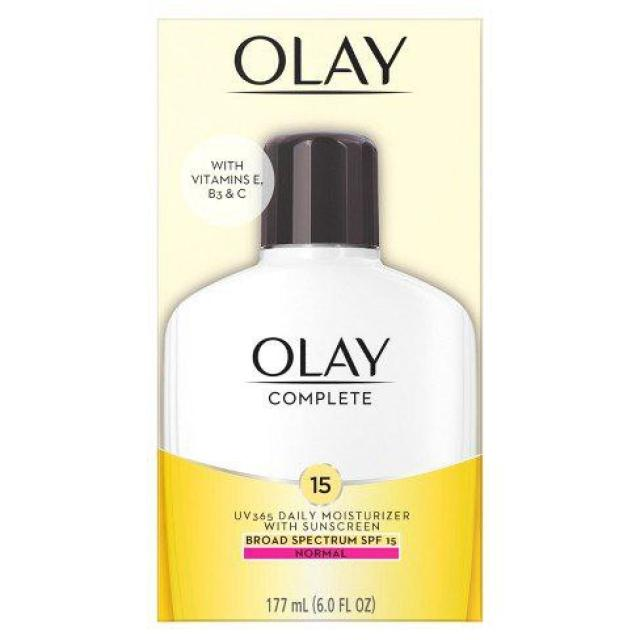lotion-moisture: (167, 13, 490, 620)
